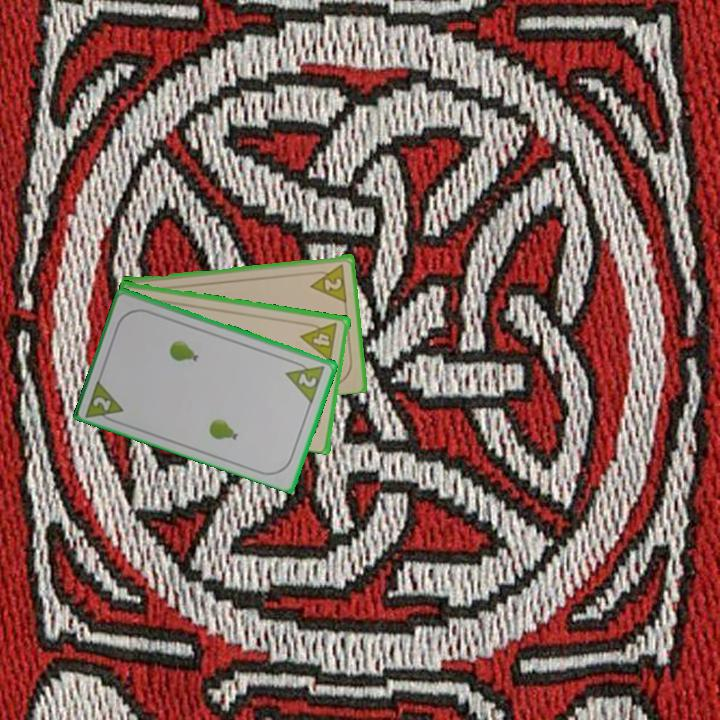2p: (283, 356, 328, 405), (306, 260, 350, 303), (89, 393, 115, 414)
4p: (298, 318, 341, 363)
